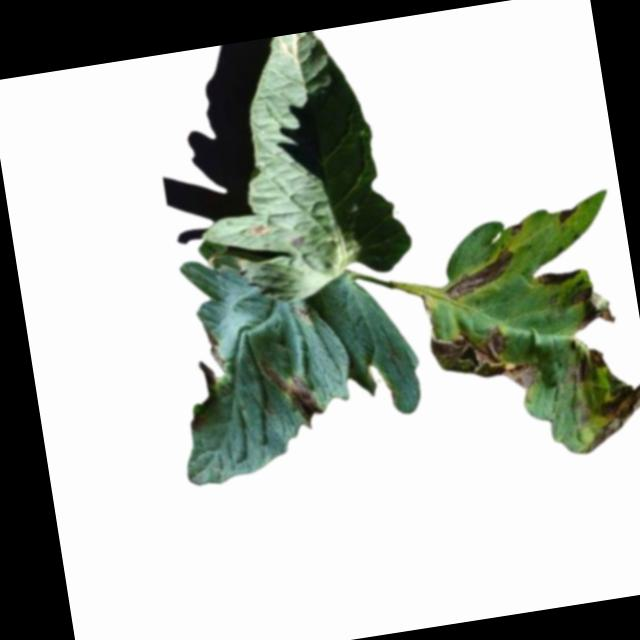Early_blight: (428, 319, 541, 403), (259, 351, 327, 428), (439, 243, 522, 304), (575, 377, 640, 454), (565, 280, 620, 334), (562, 344, 610, 390), (536, 265, 584, 287), (553, 203, 579, 224), (244, 220, 273, 237), (507, 219, 526, 235), (288, 232, 308, 247)
